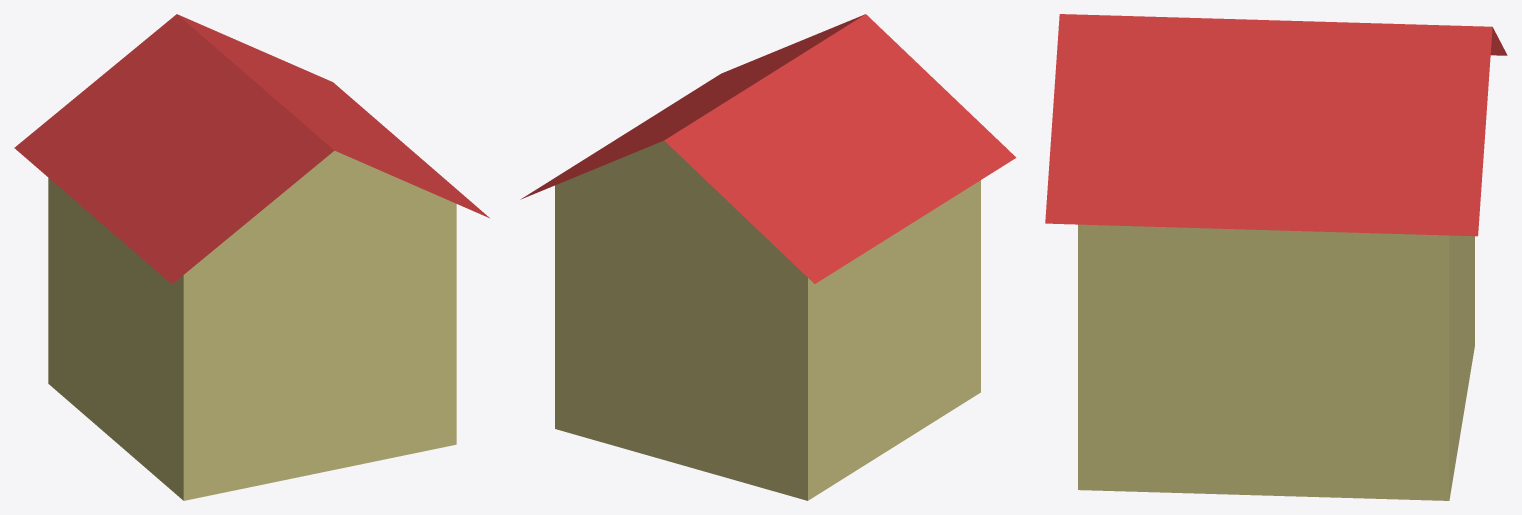
3 renders of one model, left to right at view 1: azimuth 30°, elevation 25°; view 2: azimuth 150°, elevation 25°; view 3: azimuth 270°, elevation 25°, orthographic. The views are drawn at different scales.
Size of the model in its own units: 7.41 by 7.49 by 7.15.
